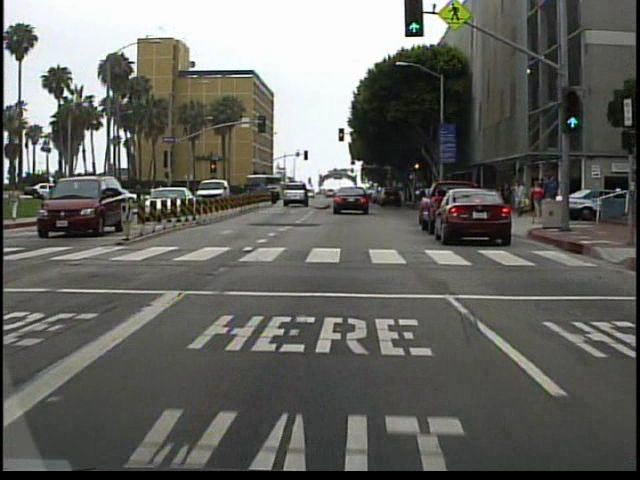person: (543, 172, 561, 224), (529, 180, 546, 224), (9, 180, 27, 220), (513, 178, 528, 222)
